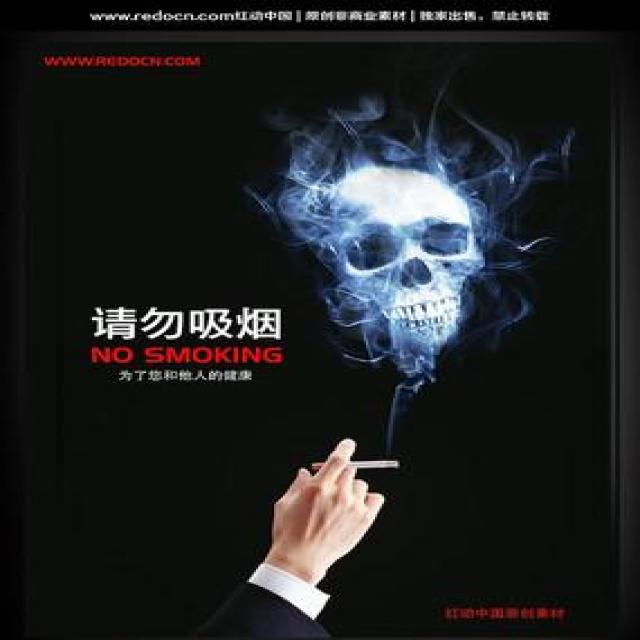smoke: (358, 454, 420, 482)
